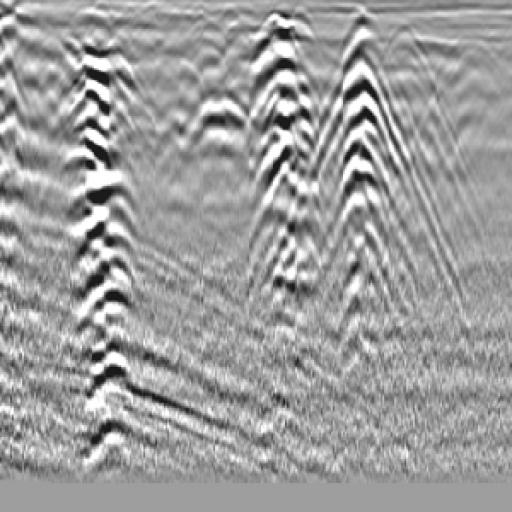metalic: (163, 55, 269, 249)
